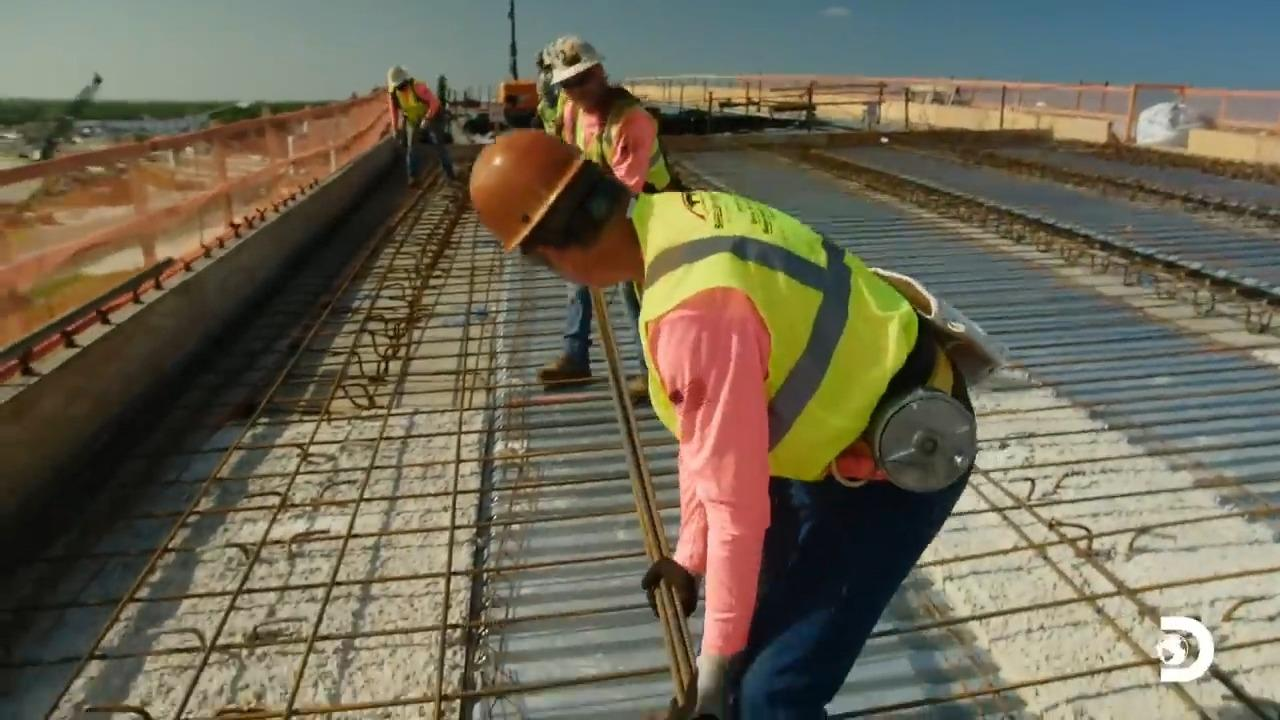Gloves: (642, 557, 705, 626), (676, 658, 738, 716)
Helmet: (468, 127, 584, 253), (545, 29, 612, 82), (386, 64, 410, 93)
Person: (468, 128, 978, 719), (527, 34, 672, 399), (386, 64, 459, 187)
Safety Boot: (534, 357, 596, 382)
Safety Vest: (661, 231, 918, 434), (583, 117, 658, 166), (400, 95, 428, 121)
